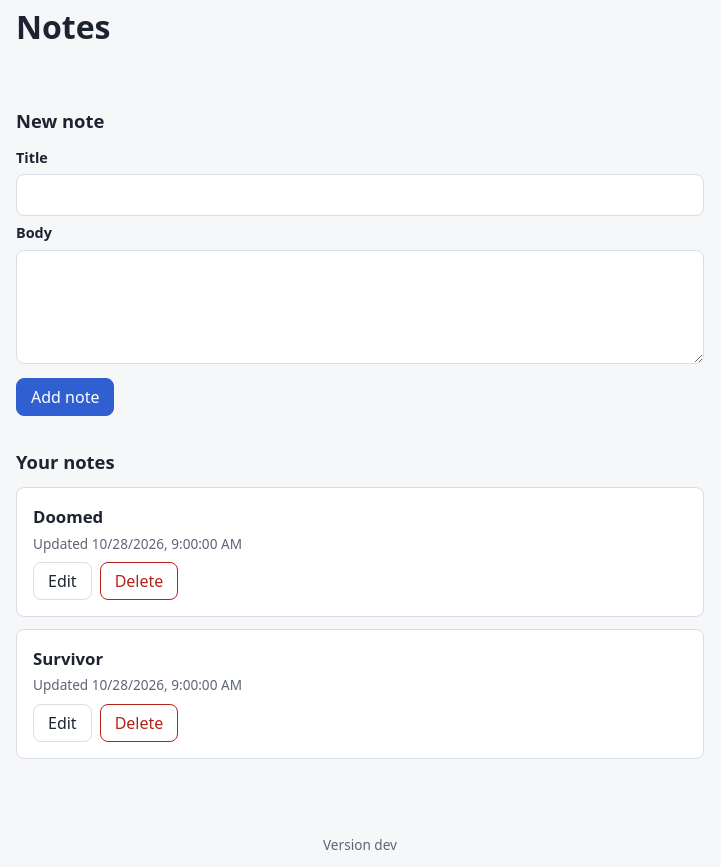
Test: deleting a note › removes the note from the list
What coordinates should you click on to do the following:
click the button "Delete" below "Doomed"
I would click on:
 (139, 581)
Its box is [100,562,178,600].
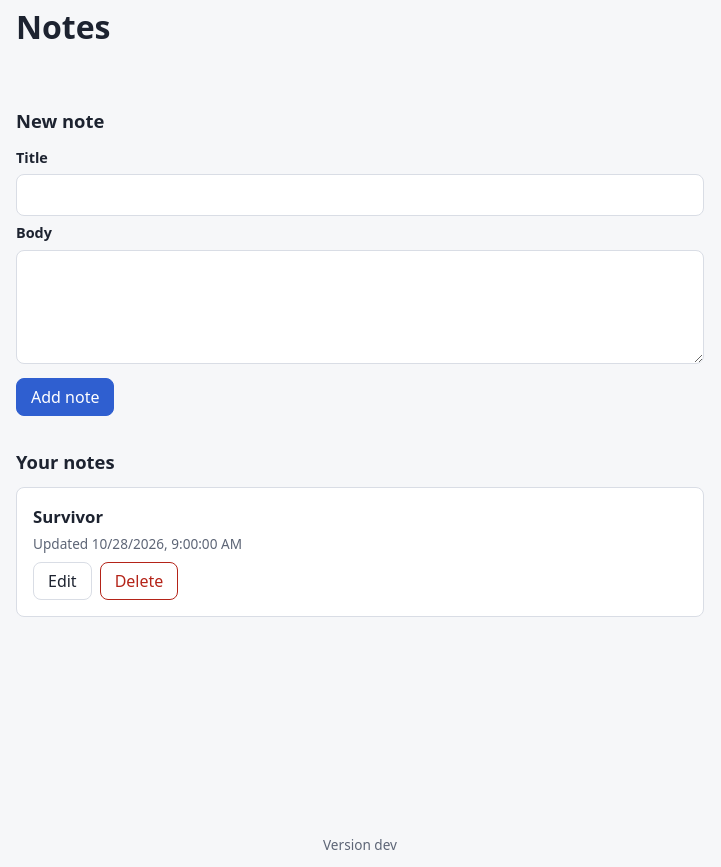
Expected: the list item "Survivor" is shown, [16,487,704,617]
Result: the heading "Doomed" is gone
